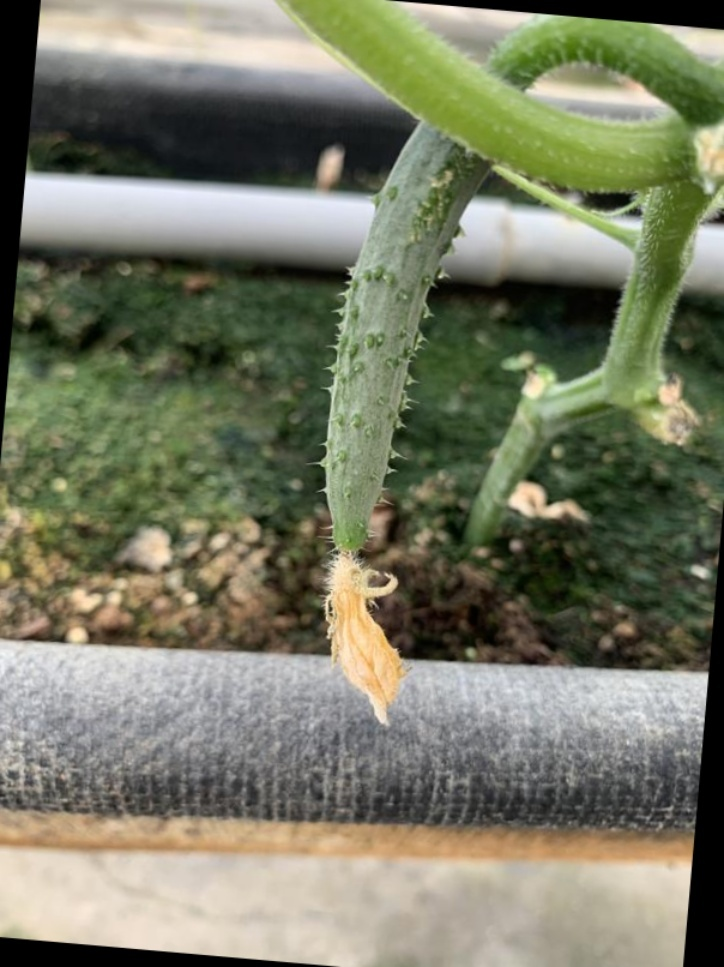bear: (269, 183, 471, 712)
